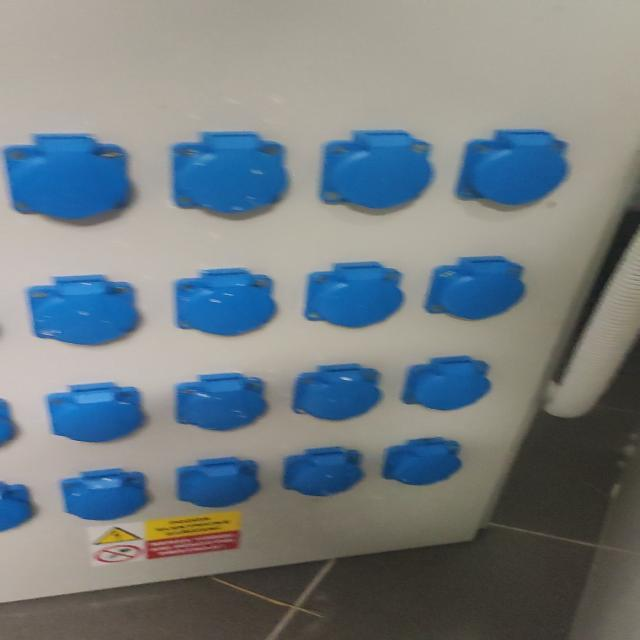house plug covered: (2, 134, 136, 227), (166, 132, 289, 221), (455, 128, 574, 212), (22, 273, 146, 350), (319, 130, 434, 210), (171, 270, 276, 338), (304, 261, 405, 328), (427, 258, 526, 322), (292, 363, 383, 420), (47, 387, 140, 442), (175, 374, 265, 430), (402, 359, 489, 414), (59, 468, 147, 521), (175, 457, 260, 508), (282, 450, 363, 498), (383, 437, 460, 486)
